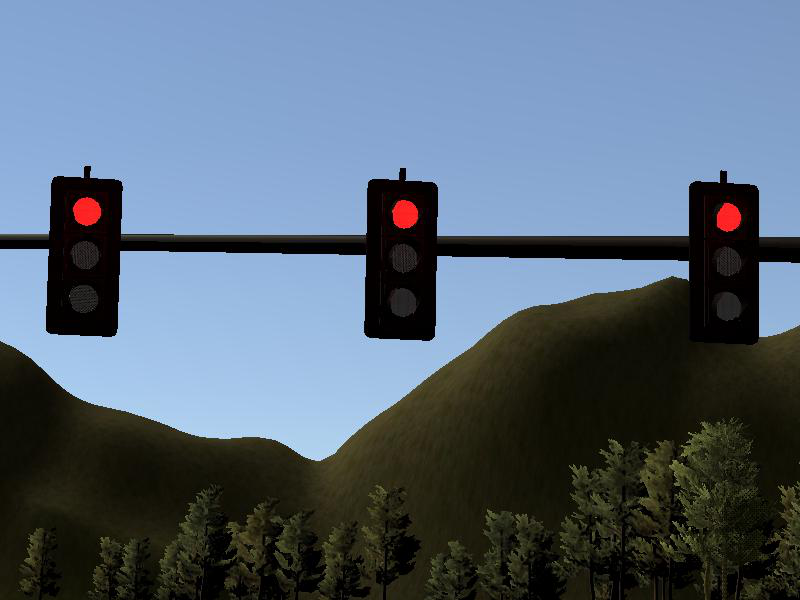red: (46, 178, 123, 334), (689, 182, 761, 344), (370, 179, 436, 340)
